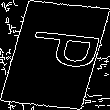P_E: (9, 32, 101, 78)
